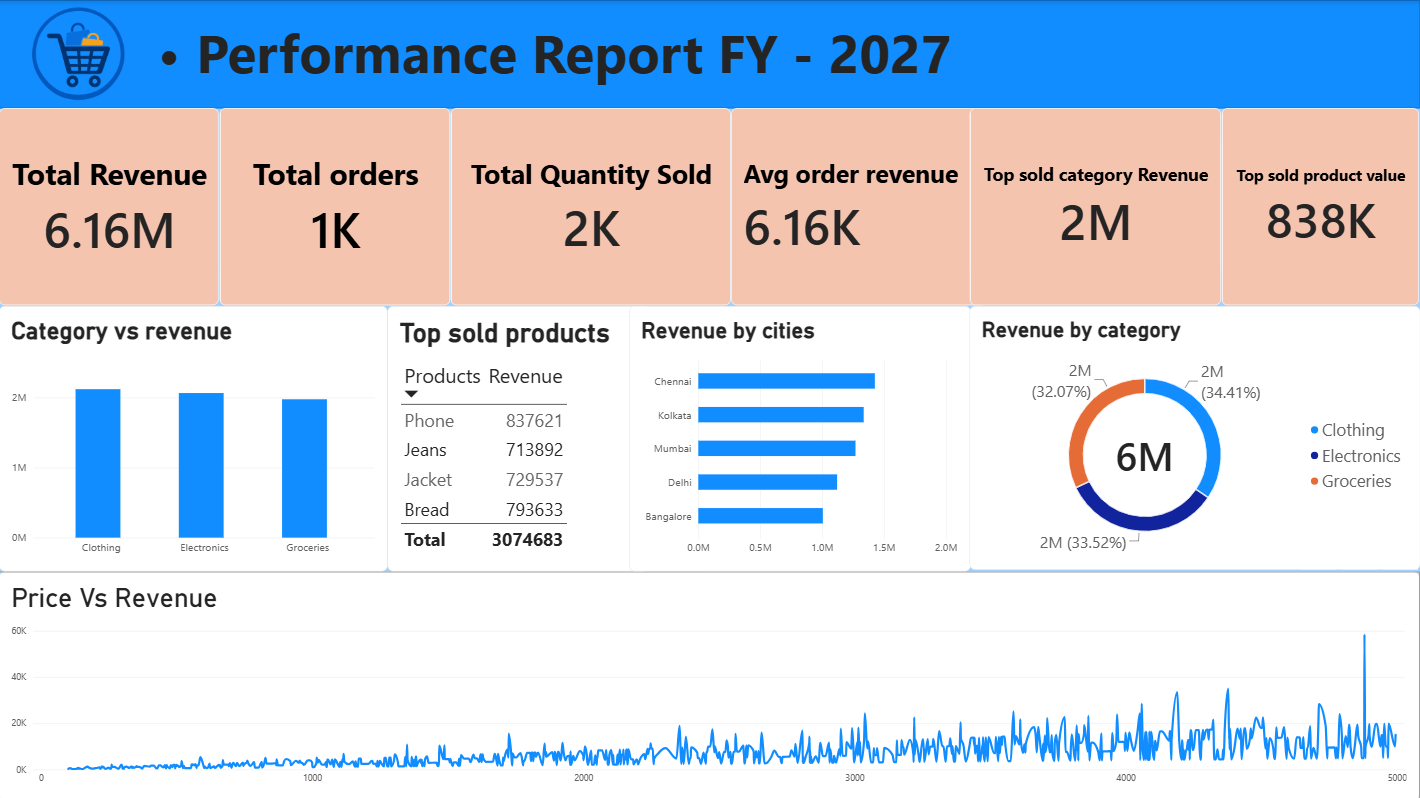

This screenshot's page, from the dashboard's own definition file:
{"tool":"powerbi","page":{"name":"Page 1","canvas":[1920,1080],"ordinal":0},"visuals":[{"type":"shape","box":[0,0,1920.8,146.5],"z":0},{"type":"image","box":[0,0,215.7,145.8],"z":1000},{"type":"textbox","box":[0,213,1920,150],"z":2000},{"type":"textbox","box":[0,21.3,1446.1,124.6],"z":2001},{"type":"cardVisual","fields":{"Data":["Sum(1777445128882-harrykart_ecommerce_data.revenue)"]},"box":[0,145.8,297.7,267.3],"z":2002},{"type":"cardVisual","fields":{"Data":["1777445128882-harrykart_ecommerce_data.Total orders"]},"box":[297.7,145.8,312.9,267.3],"z":2003},{"type":"cardVisual","fields":{"Data":["Sum(1777445128882-harrykart_ecommerce_data.Quantity)"]},"box":[610.6,145.8,379.7,267.3],"z":2004},{"type":"lineChart","title":"Price Vs Revenue","fields":{"Category":["1777445128882-harrykart_ecommerce_data.Price"],"Y":["Sum(1777445128882-harrykart_ecommerce_data.revenue)"]},"box":[0,771.6,1920,309.9],"z":2005},{"type":"columnChart","title":"Category vs revenue","fields":{"Category":["1777445128882-harrykart_ecommerce_data.Category"],"Y":["Sum(1777445128882-harrykart_ecommerce_data.revenue)"]},"box":[0,413.2,525.6,358.5],"z":2006},{"type":"tableEx","title":"Top sold products","fields":{"Values":["1777445128882-harrykart_ecommerce_data.Product","Sum(1777445128882-harrykart_ecommerce_data.revenue)"]},"box":[525.6,413.2,352.4,358.5],"z":2007},{"type":"clusteredBarChart","title":"Revenue by cities","fields":{"Category":["1777445128882-harrykart_ecommerce_data.City"],"Y":["Sum(1777445128882-harrykart_ecommerce_data.revenue)"]},"box":[850.6,413.2,461.8,358.5],"z":2008},{"type":"cardVisual","fields":{"Data":["1777445128882-harrykart_ecommerce_data.Avg orders Revenue"]},"box":[990.4,145.8,346.3,267.3],"z":2009},{"type":"cardVisual","fields":{"Data":["1777445128882-harrykart_ecommerce_data.Top sold category Revenue"]},"box":[1312.4,145.8,340.3,267.3],"z":2010},{"type":"donutChart","title":"Revenue by category","fields":{"Category":["1777445128882-harrykart_ecommerce_data.Category"],"Y":["Sum(1777445128882-harrykart_ecommerce_data.revenue)"]},"box":[1311.3,413.5,609.6,356.8],"z":2011},{"type":"cardVisual","fields":{"Data":["1777445128882-harrykart_ecommerce_data.Top sold product value"]},"box":[1652.7,145.8,267.3,267.3],"z":2012}]}

Visuals, with their boxes in screenshot pixels (x1, y1, x2, y2), scaled from the page's 1920x1080 canvas onto the 1420x798 screenshot:
shape: 0,0,1419,108
image: 0,0,160,108
textbox: 0,157,1419,268
textbox: 0,16,1070,108
cardVisual - Sum(1777445128882-harrykart_ecommerce_data.revenue): 0,108,220,305
cardVisual - 1777445128882-harrykart_ecommerce_data.Total orders: 220,108,452,305
cardVisual - Sum(1777445128882-harrykart_ecommerce_data.Quantity): 452,108,732,305
"Price Vs Revenue" lineChart: 0,570,1419,797
"Category vs revenue" columnChart: 0,305,389,570
"Top sold products" tableEx: 389,305,649,570
"Revenue by cities" clusteredBarChart: 629,305,971,570
cardVisual - 1777445128882-harrykart_ecommerce_data.Avg orders Revenue: 732,108,989,305
cardVisual - 1777445128882-harrykart_ecommerce_data.Top sold category Revenue: 971,108,1222,305
"Revenue by category" donutChart: 970,306,1419,569
cardVisual - 1777445128882-harrykart_ecommerce_data.Top sold product value: 1222,108,1419,305
